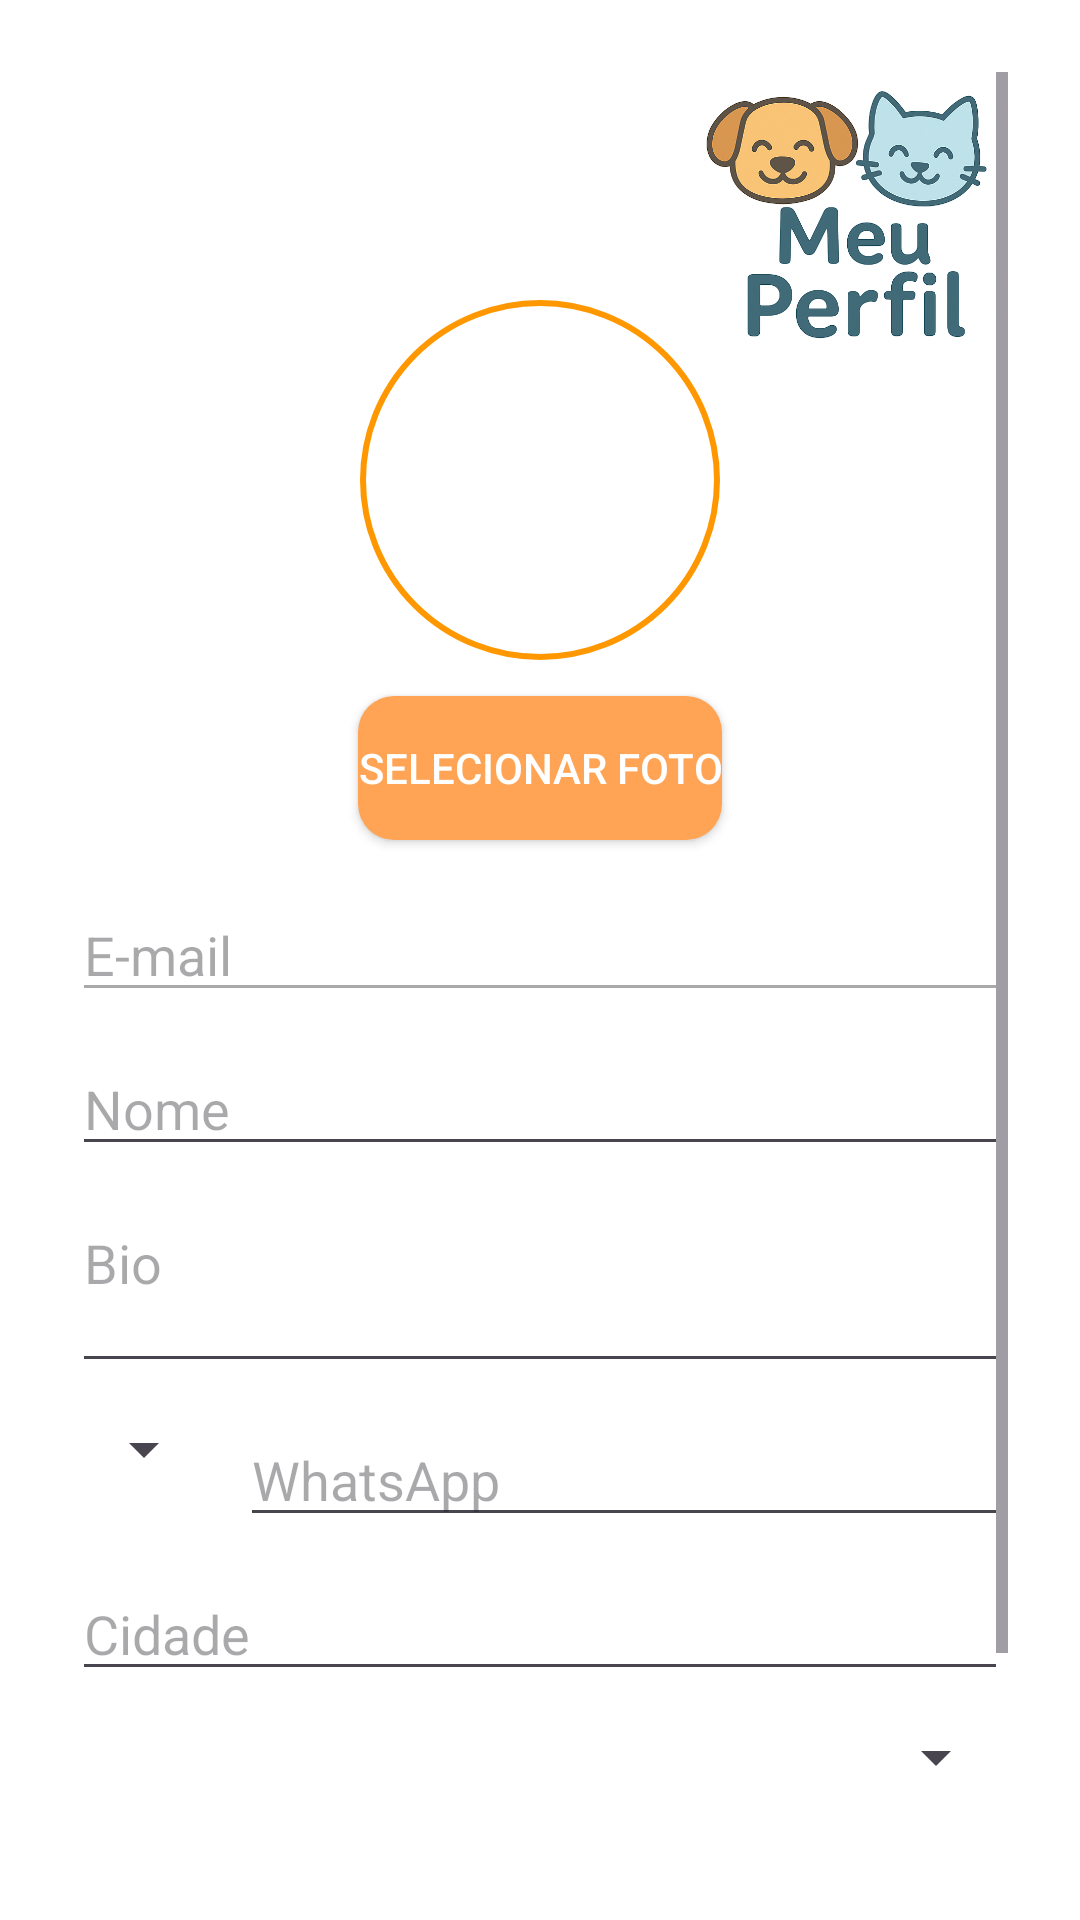

Named icons in this screenshot (1080w x 1920h) and their centers, (x=x, y=y):
Arte visual do perfil: (x=846, y=214)
